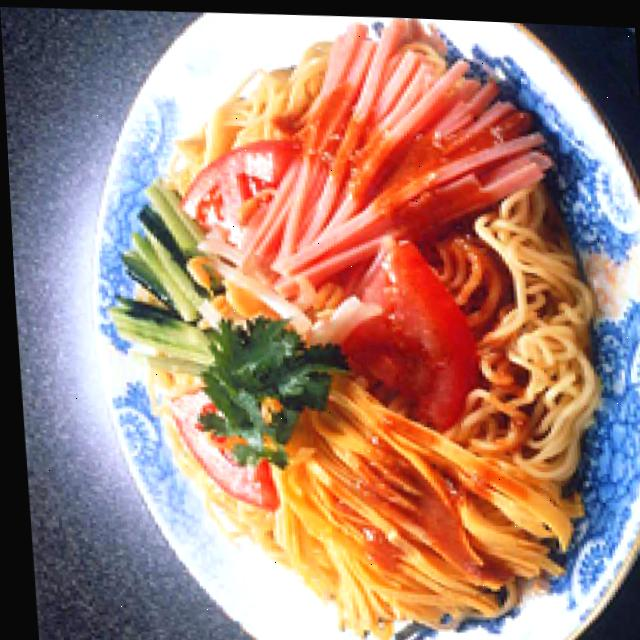面条主食: (56, 2, 640, 640)
